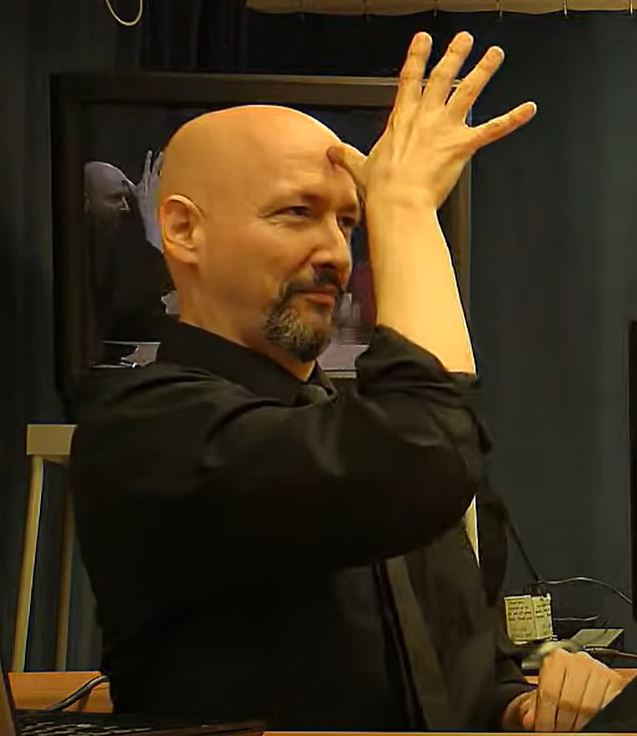Dad: (278, 15, 557, 261)
